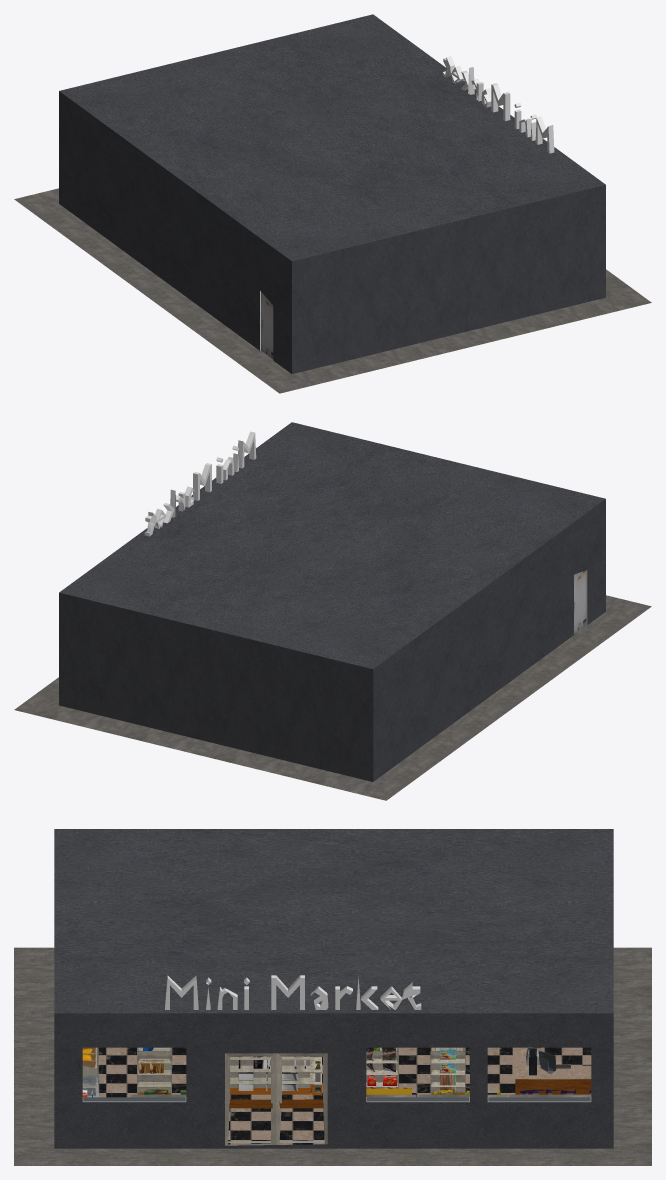
File: st_market.glb
3 renders of one model, top to bottom at view 1: azimuth 30°, elevation 25°; view 2: azimuth 150°, elevation 25°; view 3: azimuth 270°, elevation 25°, orthographic. The views are drawn at different scales.
Bounding box in the file's own units: 76.7 × 27.95 × 94.76.
44 materials, 43 textured.
